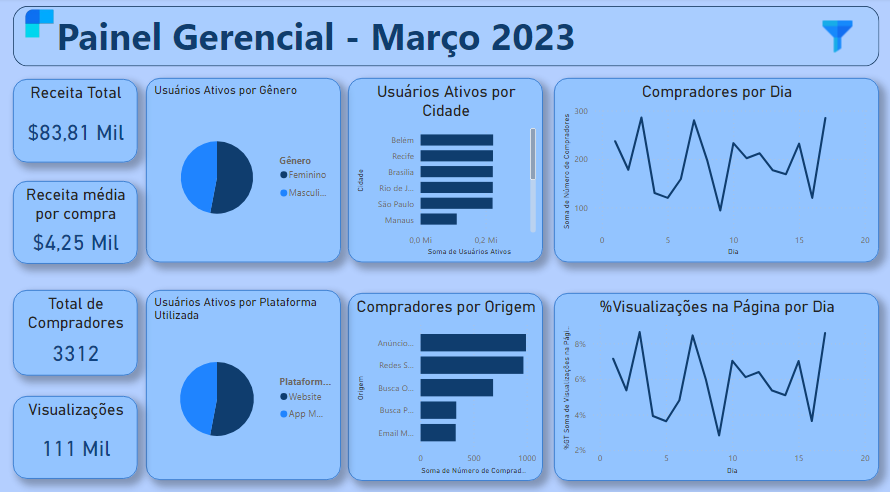

The page's visual inventory and layout, read from the dashboard file:
{"tool":"powerbi","page":{"name":"Página 1","canvas":[1280,720],"ordinal":0},"visuals":[{"type":"card","title":"Receita Total","fields":{"Values":["Sum(Planilha1.Receita Total)"]},"box":[18.6,115.7,178.6,120],"z":0},{"type":"pieChart","title":"Usuários Ativos por Gênero","fields":{"Y":["Sum(Planilha1.Usuários Ativos)"],"Category":["Planilha1.Gênero"]},"box":[210,115,280,265],"z":1000},{"type":"clusteredBarChart","title":"Usuários Ativos por Cidade","fields":{"Y":["Sum(Planilha1.Usuários Ativos)"],"Category":["Planilha1.Cidade"]},"box":[500,115,280,265],"z":2000},{"type":"clusteredBarChart","title":"Compradores por Origem","fields":{"Category":["Planilha1.Origem"],"Y":["Sum(Planilha1.Número de Compradores)"]},"box":[500,423.3,280,270],"z":3000},{"type":"card","title":"Total de Compradores","fields":{"Values":["Sum(Planilha1.Número de Compradores)"]},"box":[18.6,420,178.6,122.9],"z":4000},{"type":"card","title":"Receita média por compra","fields":{"Values":["Sum(Planilha1.Receita Média por Compra)"]},"box":[18.6,262.9,178.6,118.6],"z":5000},{"type":"pieChart","title":"Usuários Ativos por Plataforma Utilizada","fields":{"Y":["Sum(Planilha1.Usuários Ativos)"],"Category":["Planilha1.Plataforma Utilizada"]},"box":[210,420,280,273.3],"z":6000},{"type":"lineChart","title":"Compradores por Dia","fields":{"Y":["Sum(Planilha1.Número de Compradores)"],"Category":["Planilha1.Data.Variation.Hierarquia de datas.Dia"]},"box":[796.7,115,466.7,265],"z":7000},{"type":"lineChart","title":"%Visualizações na Página por Dia","fields":{"Category":["Planilha1.Data.Variation.Hierarquia de datas.Dia"],"Y":["Sum(Planilha1.Visualizações na Página)"]},"box":[796.7,423.3,466.7,270],"z":8000},{"type":"shape","box":[18.3,11.7,1245,86.7],"z":9000},{"type":"image","box":[1176,27,56,56],"z":10000},{"type":"image","box":[18.3,11.7,90,66.7],"z":11000},{"type":"shape","box":[901.4,60,300,348.6],"z":12000,"group":"g1"},{"type":"group","id":"g1","title":"Grupo 1","box":[901.4,60,300,348.6],"z":12000},{"type":"image","box":[1134.3,64.3,67.1,67.1],"z":13000,"group":"g1"},{"type":"card","title":"Visualizações","fields":{"Values":["Sum(Planilha1.Visualizações na Página)"]},"box":[18.6,571.4,178.6,118.6],"z":13000},{"type":"textbox","box":[76,12,799,127],"z":13001},{"type":"slicer","title":"DATA","fields":{"Values":["Planilha1.Data"]},"box":[917.1,122.9,267.1,124.3],"z":14000,"group":"g1"},{"type":"slicer","title":"ORIGEM ","fields":{"Values":["Planilha1.Origem"]},"box":[925.7,247.1,251.4,144.3],"z":15000,"group":"g1"}]}

Visuals, with their boxes in screenshot pixels (x1, y1, x2, y2), scaled from the page's 1280x720 canvas onto the 890x492 screenshot:
"Receita Total" card: crop(13, 79, 137, 161)
"Usuários Ativos por Gênero" pieChart: crop(146, 79, 341, 260)
"Usuários Ativos por Cidade" clusteredBarChart: crop(348, 79, 542, 260)
"Compradores por Origem" clusteredBarChart: crop(348, 289, 542, 474)
"Total de Compradores" card: crop(13, 287, 137, 371)
"Receita média por compra" card: crop(13, 180, 137, 261)
"Usuários Ativos por Plataforma Utilizada" pieChart: crop(146, 287, 341, 474)
"Compradores por Dia" lineChart: crop(554, 79, 878, 260)
"%Visualizações na Página por Dia" lineChart: crop(554, 289, 878, 474)
shape: crop(13, 8, 878, 67)
image: crop(818, 18, 857, 57)
image: crop(13, 8, 75, 54)
shape: crop(627, 41, 835, 279)
"Grupo 1" group: crop(627, 41, 835, 279)
image: crop(789, 44, 835, 90)
"Visualizações" card: crop(13, 390, 137, 472)
textbox: crop(53, 8, 608, 95)
"DATA" slicer: crop(638, 84, 823, 169)
"ORIGEM " slicer: crop(644, 169, 818, 267)
